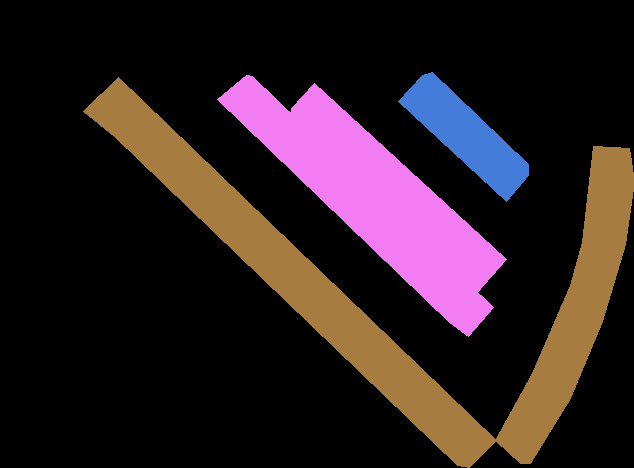parkingspot: (83, 77, 496, 467), (217, 75, 493, 336), (291, 83, 506, 293), (495, 146, 634, 463), (398, 72, 528, 201)
